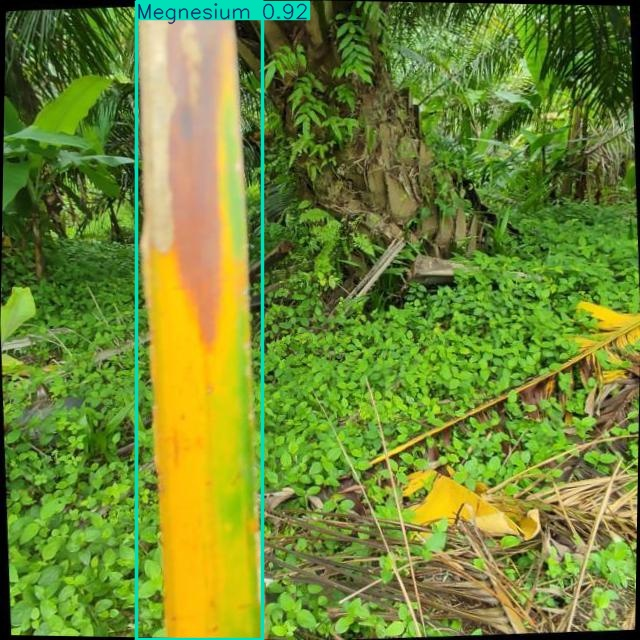Megnesium: (137, 2, 263, 639)
